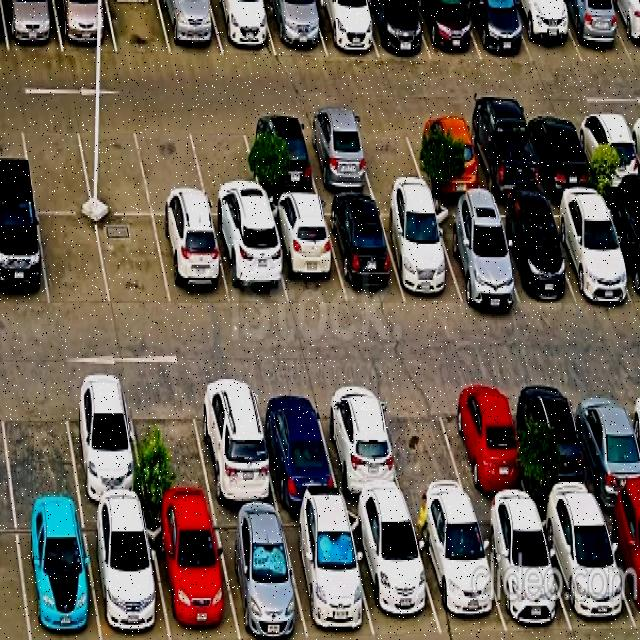empty: (375, 381, 472, 509), (126, 381, 214, 509), (0, 380, 80, 509), (188, 117, 264, 216), (75, 118, 152, 214), (135, 118, 209, 215), (96, 215, 171, 308), (20, 117, 92, 212), (38, 214, 110, 307), (351, 116, 427, 193), (107, 0, 171, 54)
occupied: (537, 506, 638, 640), (212, 511, 308, 640), (280, 510, 375, 640), (474, 509, 572, 633), (347, 510, 442, 637), (410, 510, 507, 634), (146, 511, 239, 640), (441, 380, 532, 508), (315, 384, 407, 508), (83, 509, 170, 640), (191, 378, 278, 508), (15, 510, 100, 640), (253, 382, 341, 507), (515, 379, 600, 507), (62, 379, 146, 507), (545, 196, 634, 301), (568, 379, 640, 505), (486, 203, 574, 303), (432, 203, 519, 304), (377, 202, 462, 304), (266, 202, 346, 307), (322, 201, 405, 302), (153, 216, 231, 306), (211, 218, 288, 306), (462, 115, 542, 196), (242, 117, 319, 198), (407, 116, 484, 194), (300, 117, 375, 196), (522, 113, 595, 190), (600, 504, 640, 632), (574, 112, 640, 189), (0, 209, 49, 307), (510, 0, 582, 64), (558, 0, 632, 62), (601, 196, 640, 305), (465, 0, 532, 61), (362, 0, 430, 59), (415, 0, 481, 60), (311, 0, 378, 57), (209, 0, 276, 55), (159, 0, 223, 56), (263, 0, 326, 55), (53, 0, 117, 52), (1, 0, 62, 52), (608, 0, 640, 62)
